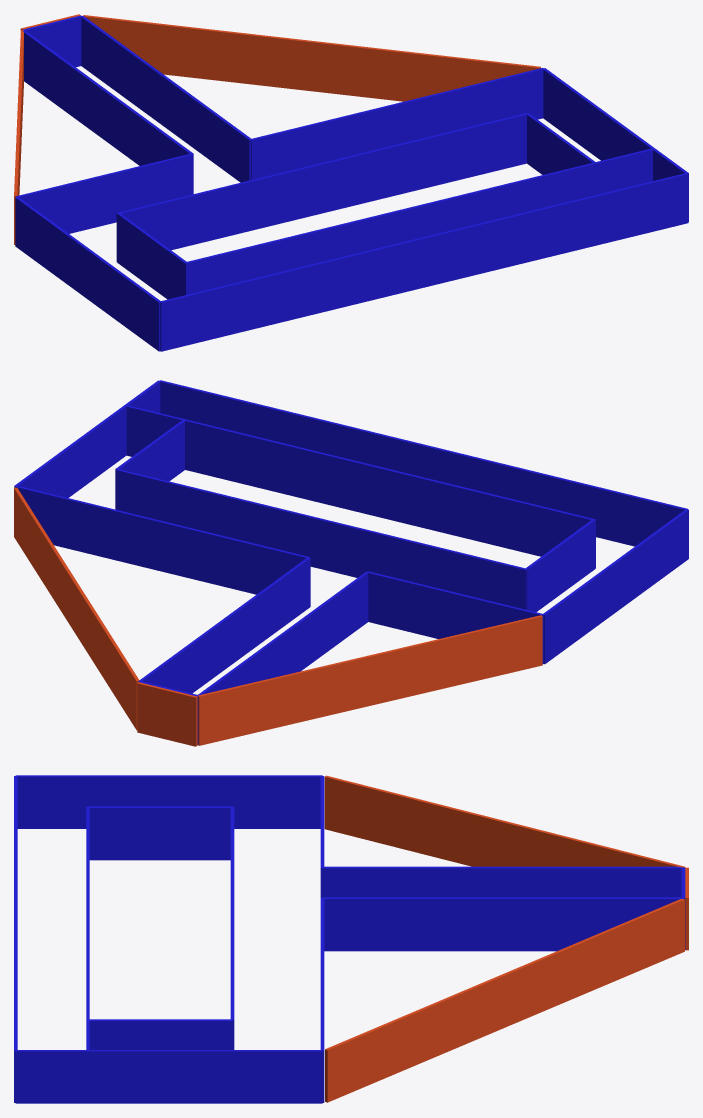
The model's file is maze.dae.
3 renders of one model, top to bottom at view 1: azimuth 30°, elevation 25°; view 2: azimuth 150°, elevation 25°; view 3: azimuth 270°, elevation 25°, orthographic. The views are drawn at different scales.
Parts seen in each view (by area): view 1: Würfel.018, Würfel.033, Würfel.002, Würfel.004, Würfel.014, Würfel, Würfel.016, Würfel.001, Würfel.003, Würfel.005, Würfel.007, Würfel.015 (+6 smaller); view 2: Würfel.018, Würfel.030, Würfel.014, Würfel.002, Würfel.004, Würfel.016, Würfel, Würfel.033, Würfel.003, Würfel.001, Würfel.015, Würfel.005 (+6 smaller); view 3: Würfel.033, Würfel, Würfel.030, Würfel.016, Würfel.007, Würfel.001, Würfel.009, Würfel.008, Würfel.026, Würfel.018, Würfel.004, Würfel.002 (+2 smaller).
Part boxes in pixels (box(x1,y1,x2,y2)): Würfel.018: box(160, 173, 688, 351); Würfel.033: box(83, 15, 540, 101); Würfel.002: box(116, 141, 411, 261); Würfel.004: box(250, 68, 543, 179); Würfel.014: box(185, 191, 478, 295); Würfel: box(81, 16, 251, 182); Würfel.016: box(15, 197, 161, 351); Würfel.001: box(22, 30, 193, 193); Würfel.003: box(15, 153, 193, 233); Würfel.005: box(410, 113, 527, 191); Würfel.007: box(543, 68, 654, 160); Würfel.015: box(477, 162, 595, 223); Würfel.018: box(159, 380, 688, 546); Würfel.030: box(198, 615, 542, 745); Würfel.014: box(301, 448, 595, 568); Würfel.002: box(233, 497, 527, 609); Würfel.004: box(15, 485, 309, 594); Würfel.016: box(543, 509, 688, 664); Würfel: box(138, 557, 310, 693); Würfel.033: box(14, 487, 139, 730); Würfel.003: box(367, 571, 543, 664); Würfel.001: box(197, 571, 368, 695); Würfel.015: box(185, 419, 302, 497); Würfel.005: box(116, 469, 234, 537); Würfel.033: box(325, 899, 684, 1102); Würfel: box(322, 897, 683, 951); Würfel.030: box(324, 775, 685, 867); Würfel.016: box(15, 775, 322, 828); Würfel.007: box(88, 1050, 322, 1103); Würfel.001: box(322, 866, 683, 897); Würfel.009: box(88, 806, 232, 860); Würfel.008: box(88, 1019, 232, 1049); Würfel.026: box(15, 1050, 87, 1103); Würfel.018: box(14, 776, 17, 1102); Würfel.004: box(320, 898, 324, 1102); Würfel.002: box(230, 806, 234, 958).
Bounding box in the file's own units: 18.1 × 18.7 × 1.6.
